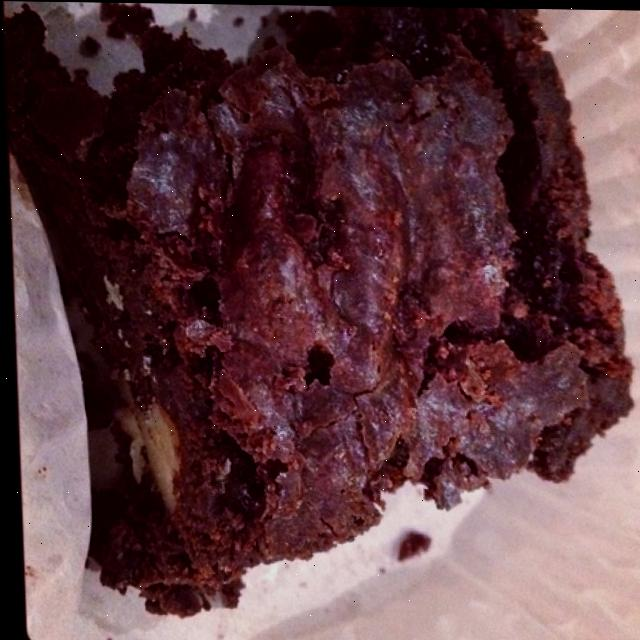蛋糕甜品: (17, 0, 631, 625)
